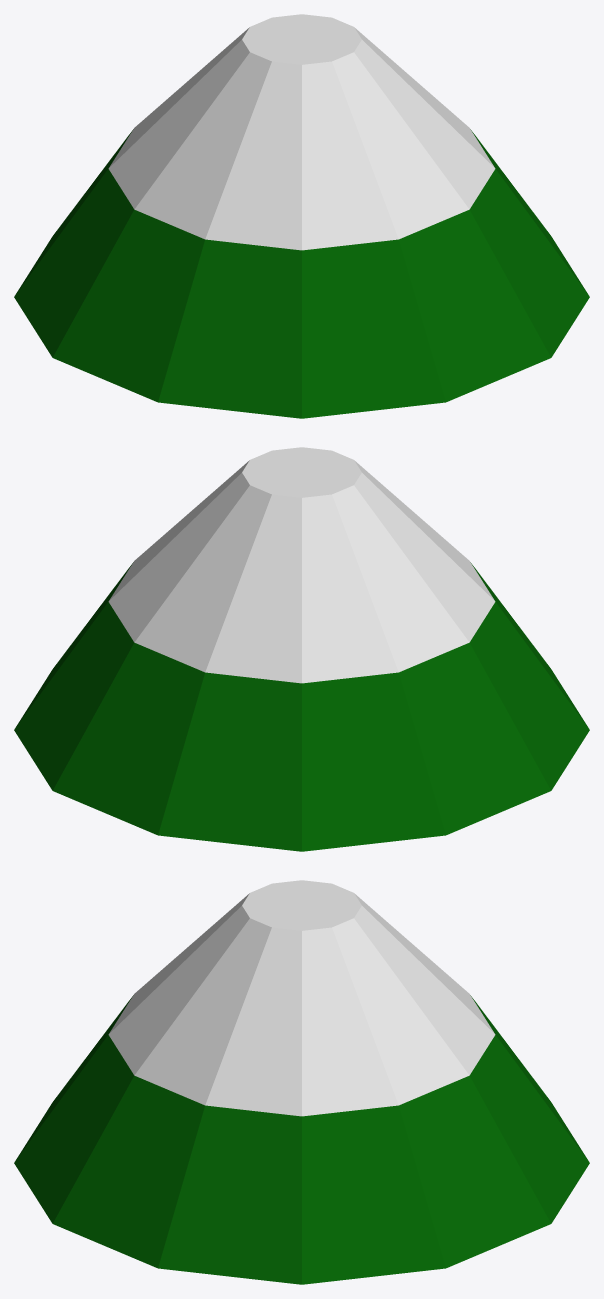
Rendered from Prop_Industrial_Rocket_Head_05.FBX.
3 renders of one model, top to bottom at view 1: azimuth 30°, elevation 25°; view 2: azimuth 150°, elevation 25°; view 3: azimuth 270°, elevation 25°, orthographic.
Visible parts, largest first — view 1: Prop_Industrial_Rocket_Head_05; view 2: Prop_Industrial_Rocket_Head_05; view 3: Prop_Industrial_Rocket_Head_05.
Part boxes in pixels (x1,y1,x2,y2): Prop_Industrial_Rocket_Head_05: [14, 14, 589, 418]; Prop_Industrial_Rocket_Head_05: [14, 447, 589, 851]; Prop_Industrial_Rocket_Head_05: [14, 880, 589, 1284].
Bounding box in the file's own units: 1538 × 759 × 1538.
